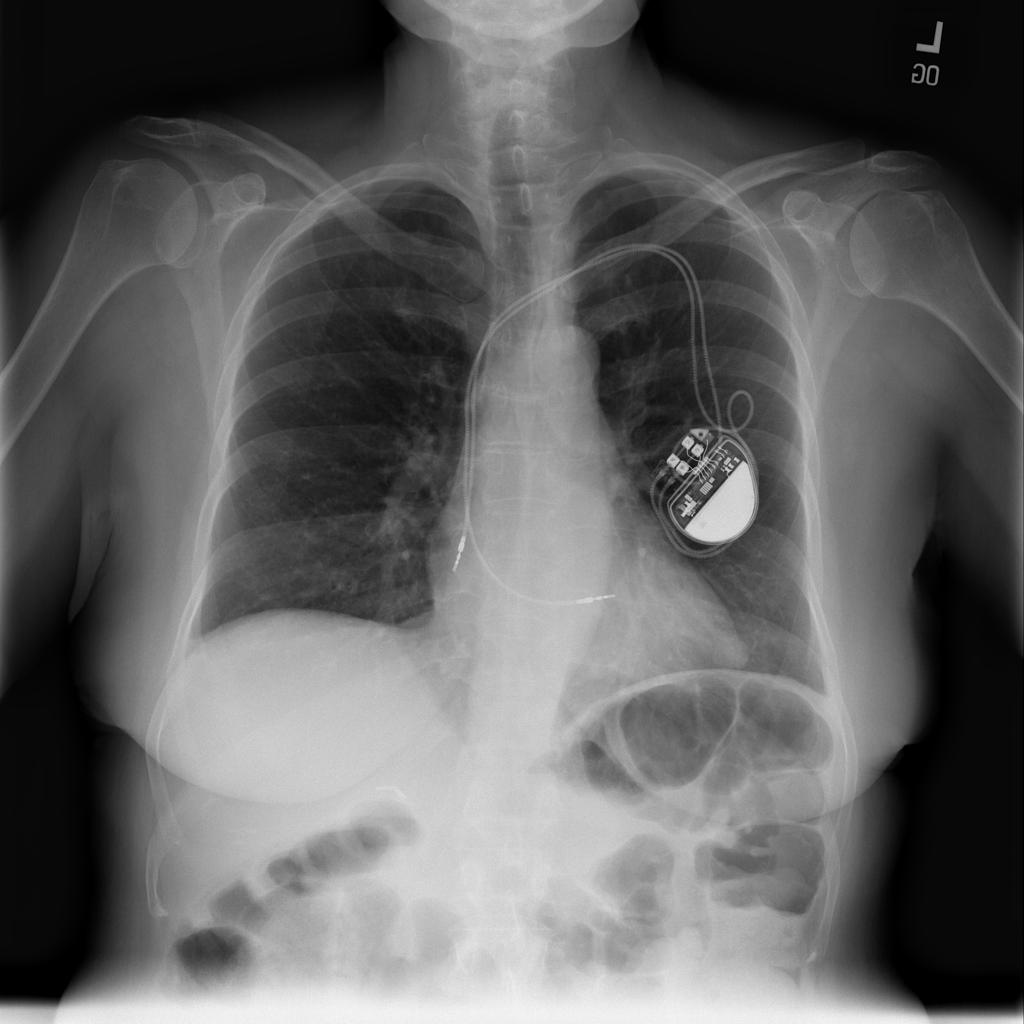nodule: (709, 627, 761, 678), (396, 211, 447, 257)
